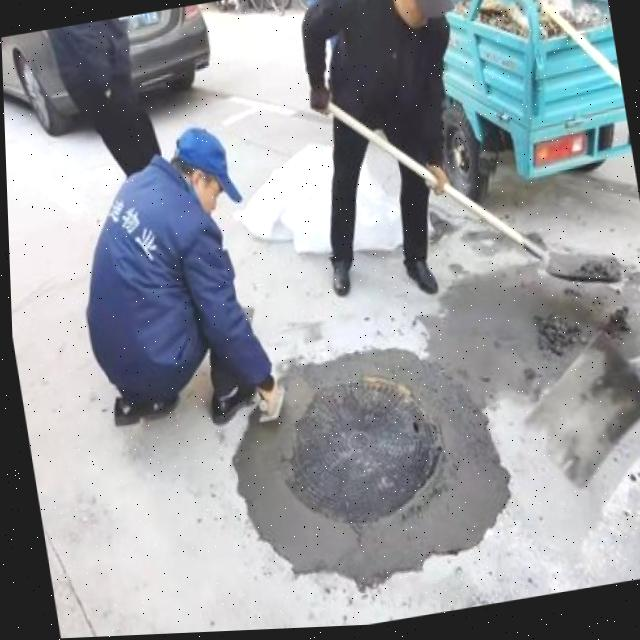manhole: (270, 344, 452, 528)
